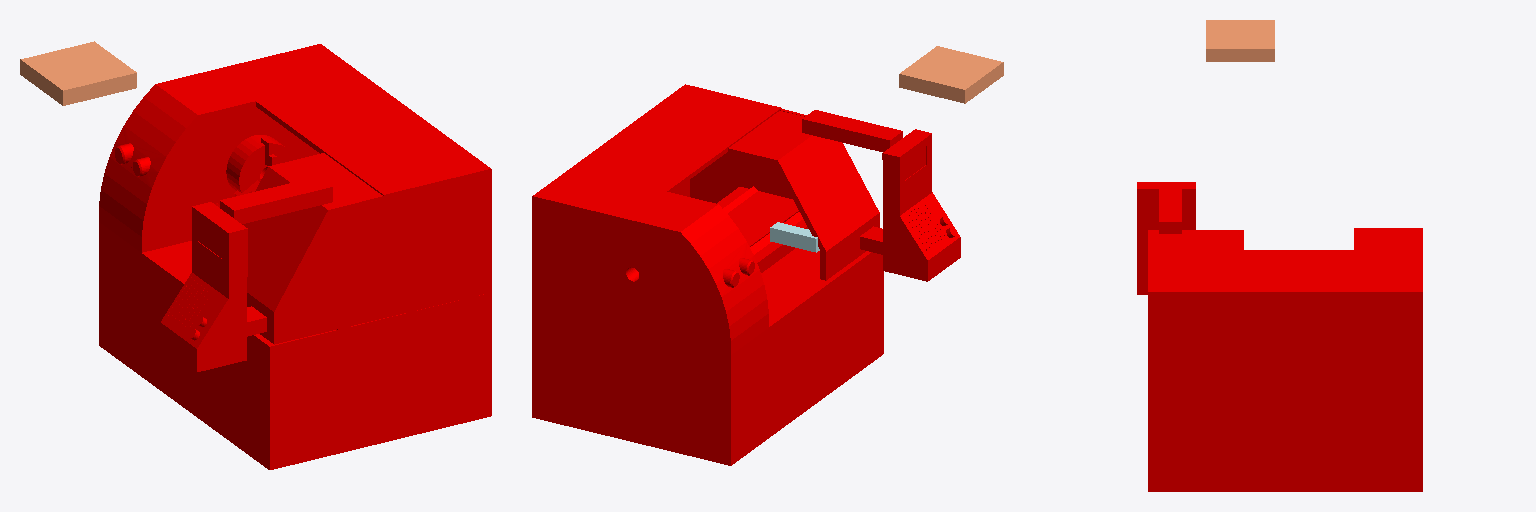
robot.urdf — NIST_Robot:
<?xml version="1.0" ?>
<!-- =================================================================================== -->
<!-- |    This document was autogenerated by xacro from mtconnect_m16ib20_demo.xacro   | -->
<!-- |    EDITING THIS FILE BY HAND IS NOT RECOMMENDED                                 | -->
<!-- =================================================================================== -->
<robot name="NIST_Robot" xmlns:xacro="http://ros.org/wiki/xacro">
  <!-- instantiating xacros -->
  <link name="base_link">
    <visual>
      <origin rpy="0 0 0" xyz="0 0 0"/>
      <geometry>
        <mesh filename="package://fanuc_config/meshes/m_16iB20/visual/base_link.STL"/>
      </geometry>
      <material name="">
        <color rgba="1 1 0 1"/>
      </material>
    </visual>
    <collision>
      <origin rpy="0 0 0" xyz="0 0 0"/>
      <geometry>
        <mesh filename="package://fanuc_config/meshes/m_16iB20/collision/base_link.STL"/>
      </geometry>
    </collision>
  </link>
  <link name="link_1">
    <visual>
      <origin rpy="0 0 0" xyz="0 0 0"/>
      <geometry>
        <mesh filename="package://fanuc_config/meshes/m_16iB20/visual/Link_1.STL"/>
      </geometry>
      <material name="">
        <color rgba="1 1 0 1"/>
      </material>
    </visual>
    <collision>
      <origin rpy="0 0 0" xyz="0 0 0"/>
      <geometry>
        <mesh filename="package://fanuc_config/meshes/m_16iB20/collision/Link_1.STL"/>
      </geometry>
    </collision>
  </link>
  <link name="link_2">
    <visual>
      <origin rpy="0 0 0" xyz="0 0 0"/>
      <geometry>
        <mesh filename="package://fanuc_config/meshes/m_16iB20/visual/Link_2.STL"/>
      </geometry>
      <material name="">
        <color rgba="1 1 0 1"/>
      </material>
    </visual>
    <collision>
      <origin rpy="0 0 0" xyz="0 0 0"/>
      <geometry>
        <mesh filename="package://fanuc_config/meshes/m_16iB20/collision/Link_2.STL"/>
      </geometry>
    </collision>
  </link>
  <link name="link_3">
    <visual>
      <origin rpy="0 0 0" xyz="0 0 0"/>
      <geometry>
        <mesh filename="package://fanuc_config/meshes/m_16iB20/visual/Link_3.STL"/>
      </geometry>
      <material name="">
        <color rgba="1 1 0 1"/>
      </material>
    </visual>
    <collision>
      <origin rpy="0 0 0" xyz="0 0 0"/>
      <geometry>
        <mesh filename="package://fanuc_config/meshes/m_16iB20/collision/Link_3.STL"/>
      </geometry>
    </collision>
  </link>
  <link name="link_4">
    <visual>
      <origin rpy="0 0 0" xyz="0 0 0"/>
      <geometry>
        <mesh filename="package://fanuc_config/meshes/m_16iB20/visual/Link_4.STL"/>
      </geometry>
      <material name="">
        <color rgba="1 1 0 1"/>
      </material>
    </visual>
    <collision>
      <origin rpy="0 0 0" xyz="0 0 0"/>
      <geometry>
        <mesh filename="package://fanuc_config/meshes/m_16iB20/collision/Link_4.STL"/>
      </geometry>
    </collision>
  </link>
  <link name="link_5">
    <visual>
      <origin rpy="0 0 0" xyz="0 0 0"/>
      <geometry>
        <mesh filename="package://fanuc_config/meshes/m_16iB20/visual/Link_5.STL"/>
      </geometry>
      <material name="">
        <color rgba="1 1 0 1"/>
      </material>
    </visual>
    <collision>
      <origin rpy="0 0 0" xyz="0 0 0"/>
      <geometry>
        <mesh filename="package://fanuc_config/meshes/m_16iB20/collision/Link_5.STL"/>
      </geometry>
    </collision>
  </link>
  <link name="link_6">
    <visual>
      <origin rpy="0 0 0" xyz="0 0 0"/>
      <geometry>
        <mesh filename="package://fanuc_config/meshes/m_16iB20/visual/Link_6.STL"/>
      </geometry>
      <material name="">
        <color rgba="1 1 0 1"/>
      </material>
    </visual>
    <collision>
      <origin rpy="0 0 0" xyz="0 0 0"/>
      <geometry>
        <mesh filename="package://fanuc_config/meshes/m_16iB20/collision/Link_6.STL"/>
      </geometry>
    </collision>
  </link>
  <link name="tool0"/>
  <joint name="joint_1" type="revolute">
    <origin rpy="0 0 0" xyz="0 0 0.245"/>
    <parent link="base_link"/>
    <child link="link_1"/>
    <axis xyz="0 0 1"/>
    <limit effort="0" lower="-2.967" upper="2.967" velocity="2.879"/>
  </joint>
  <joint name="joint_2" type="revolute">
    <origin rpy="0 0 0" xyz="0.15 0.18759 0.28"/>
    <parent link="link_1"/>
    <child link="link_2"/>
    <axis xyz="0 1 0"/>
    <limit effort="0" lower="-1.38" upper="2.78" velocity="2.879"/>
  </joint>
  <joint name="joint_3" type="revolute">
    <origin rpy="0 0 0" xyz="0 -0.18759 0.77"/>
    <parent link="link_2"/>
    <child link="link_3"/>
    <axis xyz="0 -1 0"/>
    <limit effort="0" lower="-4.08" upper="1.38" velocity="3.054"/>
  </joint>
  <joint name="joint_4" type="revolute">
    <origin rpy="0 0 0" xyz="0.18425 0 0.1"/>
    <parent link="link_3"/>
    <child link="link_4"/>
    <axis xyz="-1 0 0"/>
    <limit effort="0" lower="-3.48" upper="3.48" velocity="6.108"/>
  </joint>
  <joint name="joint_5" type="revolute">
    <origin rpy="0 0 0" xyz="0.55575 0 0"/>
    <parent link="link_4"/>
    <child link="link_5"/>
    <axis xyz="0 -1 0"/>
    <limit effort="0" lower="-2.43" upper="2.43" velocity="5.934"/>
  </joint>
  <joint name="joint_6" type="revolute">
    <origin rpy="0 0 0" xyz="0.1 0 0"/>
    <parent link="link_5"/>
    <child link="link_6"/>
    <axis xyz="-1 0 0"/>
    <limit effort="0" lower="-7.84" upper="7.84" velocity="9.075"/>
  </joint>
  <joint name="joint_6-tool0" type="fixed">
    <parent link="link_6"/>
    <child link="tool0"/>
    <origin rpy="0 0 0" xyz="0 0 0"/>
  </joint>
  <!-- parameters -->
  <!-- color definitions -->
  <material name="blue">
    <color rgba="0 0 1 1"/>
  </material>
  <material name="yellow">
    <color rgba="1 1 0 1"/>
  </material>
  <material name="orange">
    <color rgba="1 0.66 0.48 1"/>
  </material>
  <material name="red">
    <color rgba="1 0 0 1"/>
  </material>
  <material name="light_blue">
    <color rgba="0.78 0.94 0.965 1"/>
  </material>
  <!-- link definitions -->
  <link name="world_frame"/>
  <!--link name="palm"/-->
  <link name="tcp_frame"/>
  <link name="robot_platform_link">
    <visual>
      <origin rpy="0 0 0" xyz="0.0 0.0 -0.05"/>
      <geometry>
        <box size="0.5 0.5 0.1"/>
      </geometry>
      <material name="orange"/>
    </visual>
  </link>
  <link name="end_effector_link">
    <visual>
      <origin rpy="0 0 0" xyz="0.0 0.0 0.175"/>
      <geometry>
        <box size="0.1 0.1 0.35"/>
      </geometry>
      <material name="light_blue"/>
    </visual>
  </link>
  <link name="cnc_link">
    <visual>
      <geometry>
        <mesh filename="package://mtconnect_example_launch/meshes/cnc_lathe.STL"/>
      </geometry>
      <material name="red"/>
    </visual>
  </link>
  <!-- joint definitions -->
  <joint name="world_to_platform_joint" type="fixed">
    <origin rpy="3.1417 0 0" xyz="0.2 0 2"/>
    <parent link="world_frame"/>
    <child link="robot_platform_link"/>
  </joint>
  <joint name="world_to_cnc_joint" type="fixed">
    <origin rpy="1.5708 0 -1.5708" xyz="2.6 1.325 -0.45"/>
    <parent link="world_frame"/>
    <child link="cnc_link"/>
  </joint>
  <joint name="platform_to_base_joint" type="fixed">
    <origin rpy="0 0 0" xyz="0 0 0"/>
    <parent link="robot_platform_link"/>
    <child link="base_link"/>
  </joint>
  <joint name="tool_to_end_effector" type="fixed">
    <origin rpy="0 1.5708 0" xyz="0 0 0"/>
    <parent link="tool0"/>
    <child link="end_effector_link"/>
  </joint>
  <joint name="tool_to_tcp" type="fixed">
    <origin rpy="0 0 0" xyz="0.35 0 0"/>
    <parent link="tool0"/>
    <child link="tcp_frame"/>
  </joint>
</robot>

--- Facts derived from the render (not from the file) ---
The picture shows the robot from 3 angles, left to right: view 1: azimuth 30°, elevation 25°; view 2: azimuth 150°, elevation 25°; view 3: azimuth 270°, elevation 25°; orthographic projection.
Model NIST_Robot with 13 links and 12 joints (6 revolute, 6 fixed), rooted at world_frame, posed every joint at zero.
Links seen in each view (by area): view 1: cnc_link, robot_platform_link; view 2: cnc_link, robot_platform_link, end_effector_link; view 3: cnc_link, robot_platform_link.
Boxes of the visible links, x1,y1,x2,y2 form: cnc_link: [99, 44, 491, 469]; robot_platform_link: [20, 41, 136, 105]; cnc_link: [532, 84, 960, 465]; robot_platform_link: [899, 46, 1003, 103]; end_effector_link: [770, 222, 819, 252]; cnc_link: [1137, 182, 1422, 491]; robot_platform_link: [1206, 20, 1274, 61].
Bounding box of the posed robot: 2.65 × 2.08 × 2.55 m (x, y, z).
Meshes: 8 distinct files referenced, 1 mesh visuals loaded (1 binary STL); not drawn: 7 (reference not matched to a file when rendering).